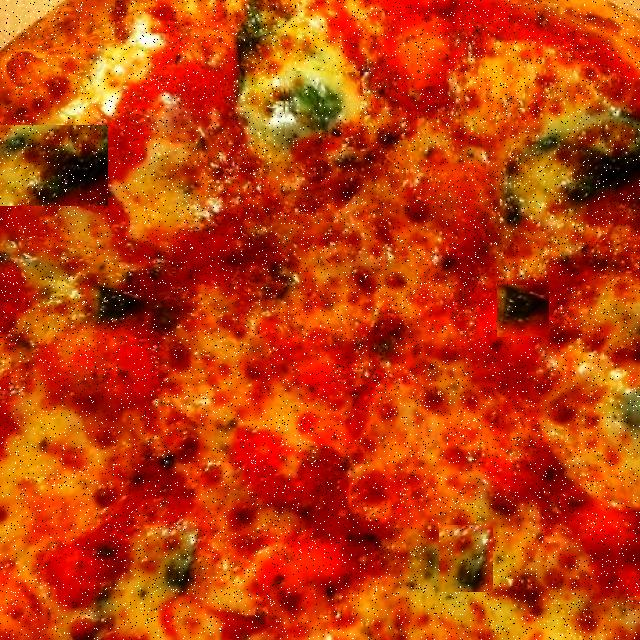Basil: (0, 125, 108, 206), (285, 71, 360, 138), (439, 525, 493, 592), (522, 586, 578, 640), (497, 285, 549, 337)
Pizza: (0, 0, 640, 640)
